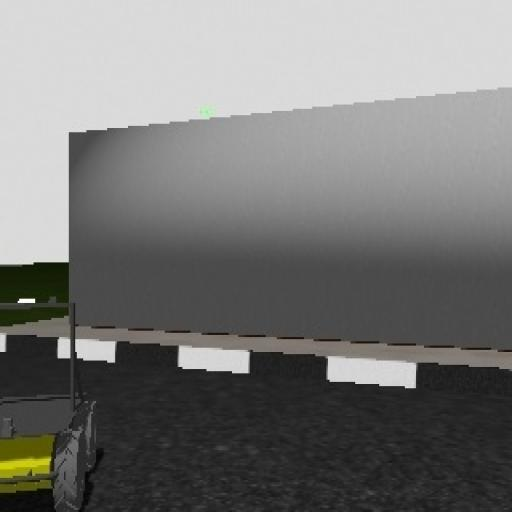huskya200: (1, 281, 107, 512)
